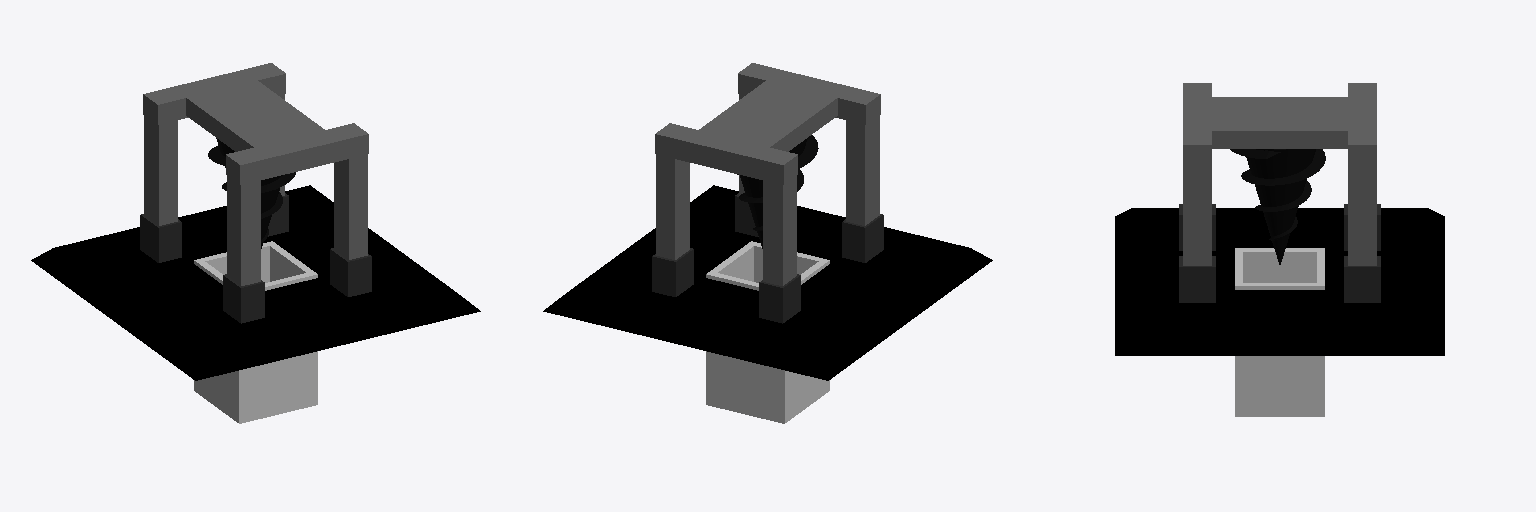
The model's file is drill.obj.
3 renders of one model, left to right at view 1: azimuth 30°, elevation 25°; view 2: azimuth 150°, elevation 25°; view 3: azimuth 270°, elevation 25°, orthographic.
Parts seen in each view (by area): view 1: base_Cube.002, top_Cube.001, Cube_Cube.003, bottom_Cube, drill_Spiral.000; view 2: base_Cube.002, top_Cube.001, Cube_Cube.003, bottom_Cube, drill_Spiral.000; view 3: base_Cube.002, top_Cube.001, Cube_Cube.003, drill_Spiral.000, bottom_Cube.
Part boxes in pixels (left/top/right/bottom): base_Cube.002: left=31, top=185, right=480, bottom=380; top_Cube.001: left=143, top=63, right=368, bottom=285; Cube_Cube.003: left=194, top=241, right=317, bottom=423; bottom_Cube: left=140, top=193, right=371, bottom=323; drill_Spiral.000: left=208, top=138, right=295, bottom=248; base_Cube.002: left=543, top=185, right=992, bottom=380; top_Cube.001: left=655, top=63, right=880, bottom=285; Cube_Cube.003: left=706, top=241, right=829, bottom=423; bottom_Cube: left=652, top=193, right=883, bottom=323; drill_Spiral.000: left=737, top=135, right=818, bottom=248; base_Cube.002: left=1115, top=208, right=1444, bottom=355; top_Cube.001: left=1183, top=83, right=1376, bottom=265; Cube_Cube.003: left=1235, top=248, right=1324, bottom=416; drill_Spiral.000: left=1230, top=149, right=1325, bottom=264; bottom_Cube: left=1179, top=204, right=1380, bottom=302.
Bounding box in the file's own units: 8 × 7.6 × 8.